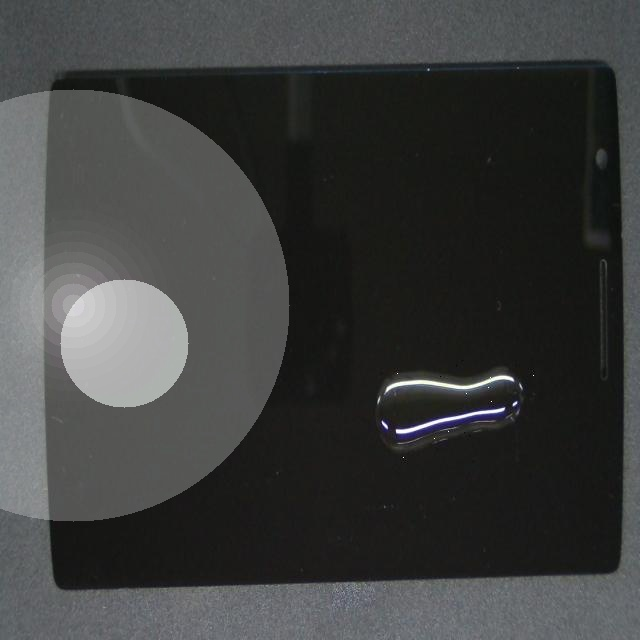oil: (255, 157, 622, 562)
